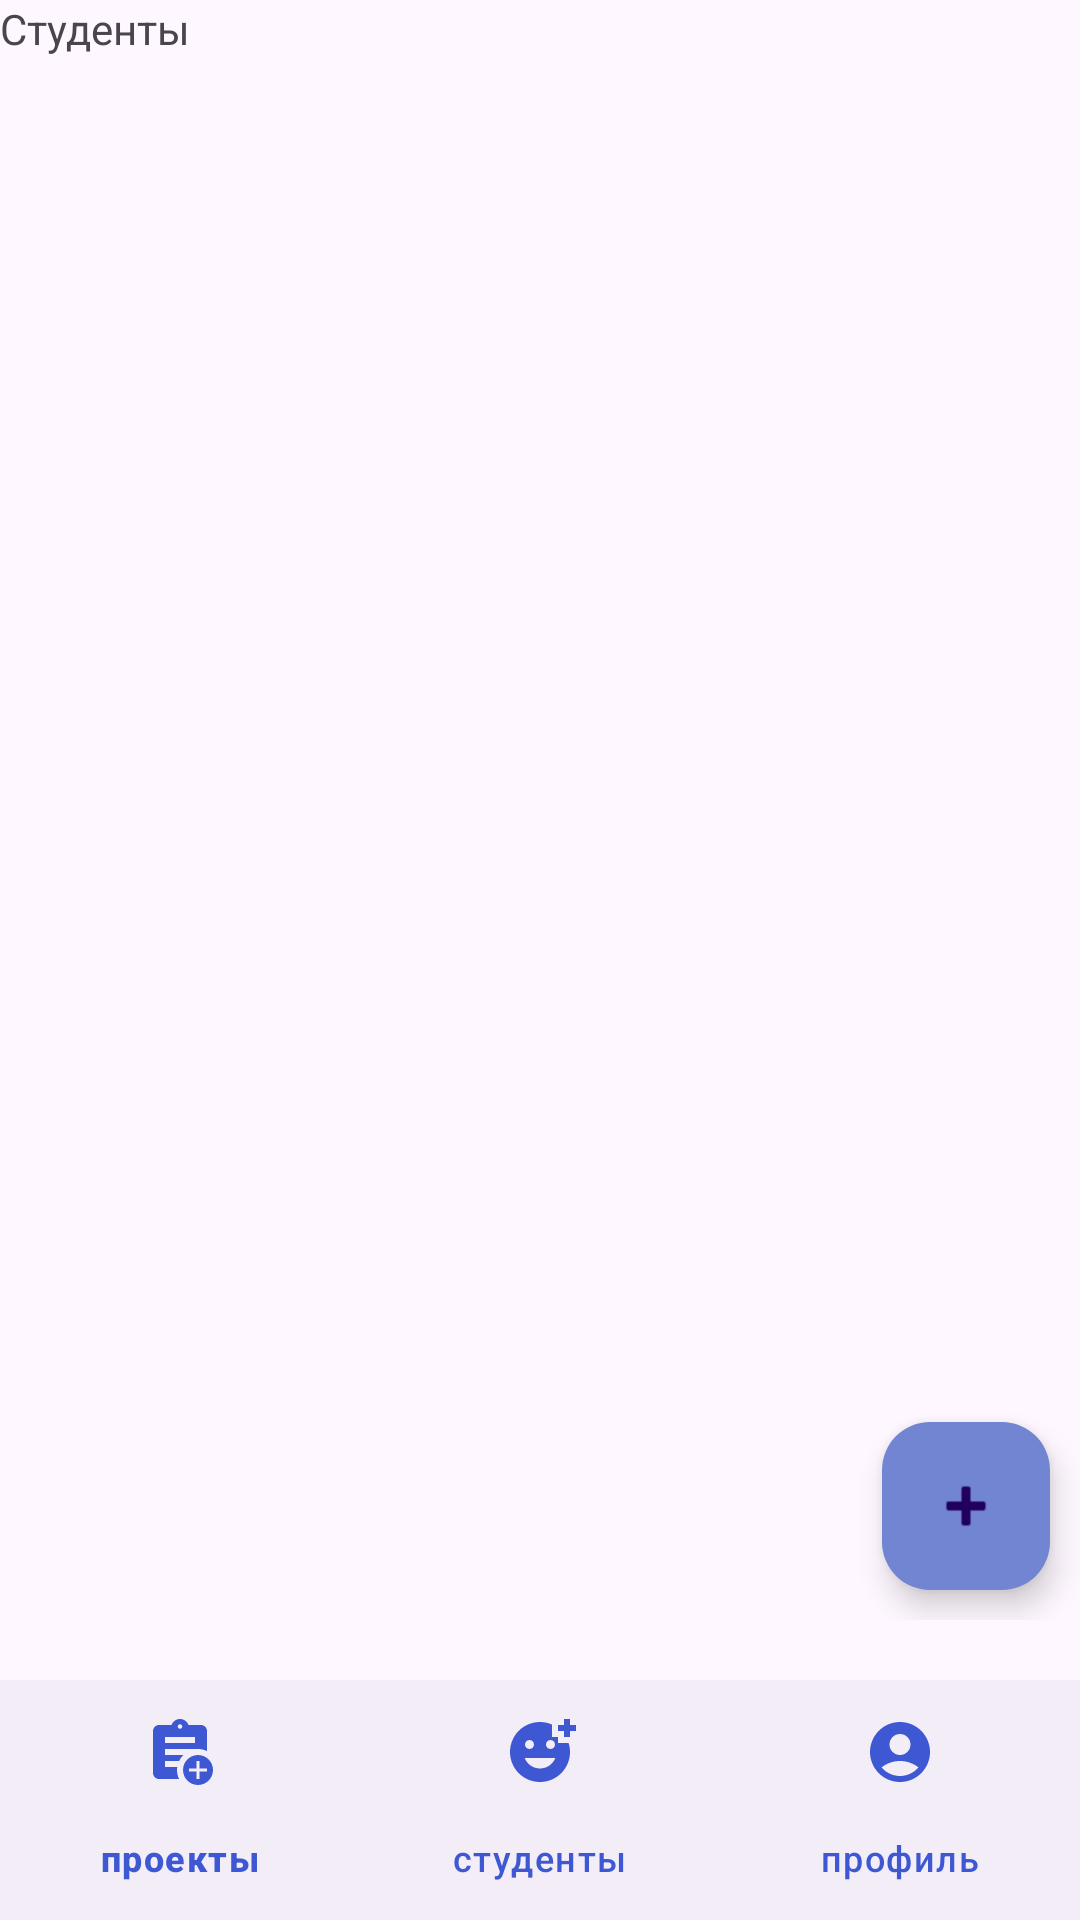

Where to tap for icons on this 1080 x 1920 app screen, as (x=x, y=y):
add: (x=966, y=1506)
